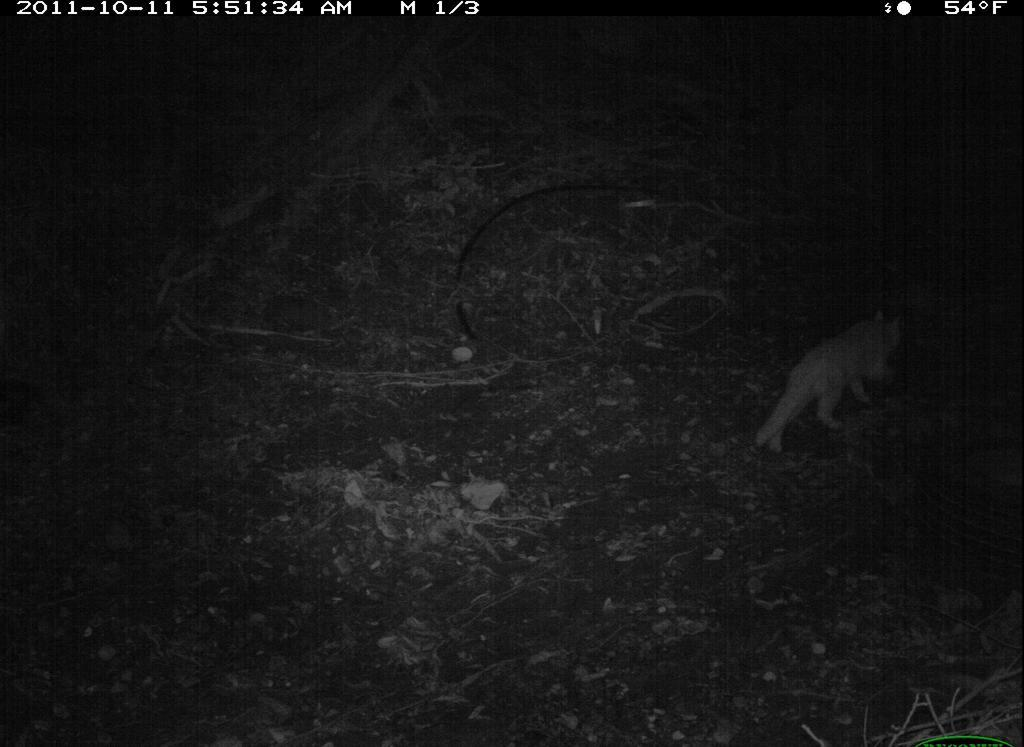cat: (744, 296, 921, 459)
